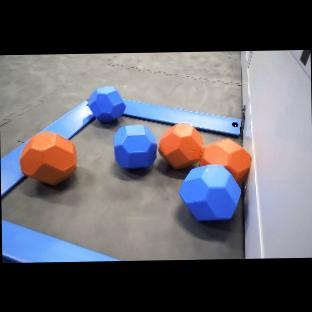V5_BLUE: (178, 164, 241, 221), (158, 123, 203, 169), (113, 125, 157, 168), (88, 85, 125, 122)
V5_RED: (19, 131, 76, 185), (198, 138, 250, 183), (158, 123, 203, 169)
